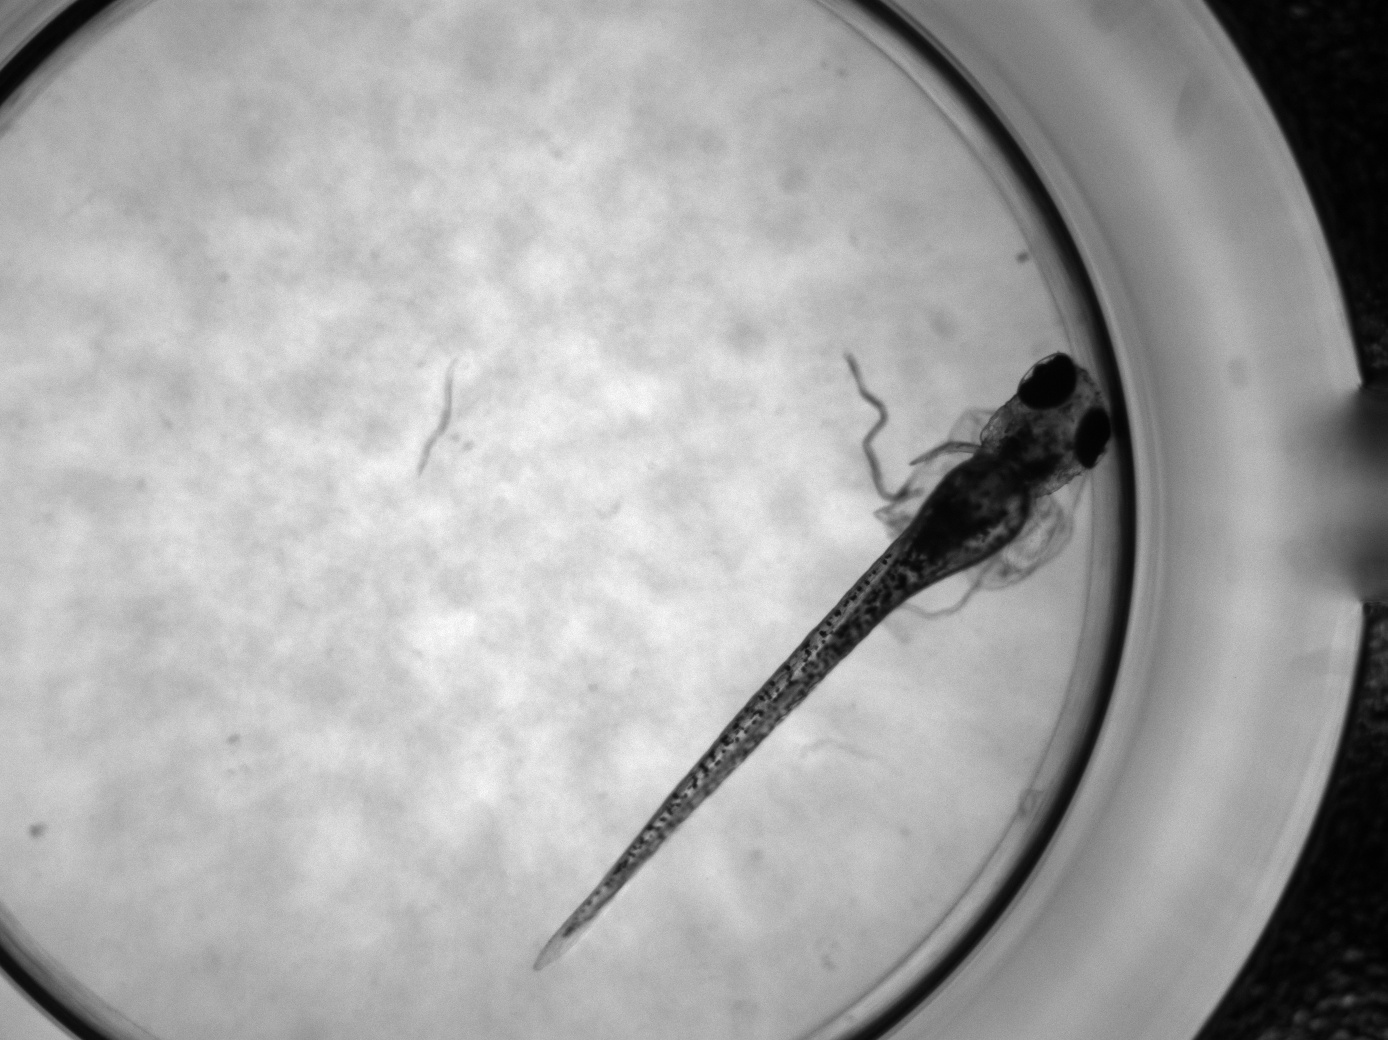embryo: (535, 353, 1115, 970)
eye: (1017, 353, 1077, 410), (1072, 407, 1111, 469)
yolksac: (912, 459, 1030, 574)
